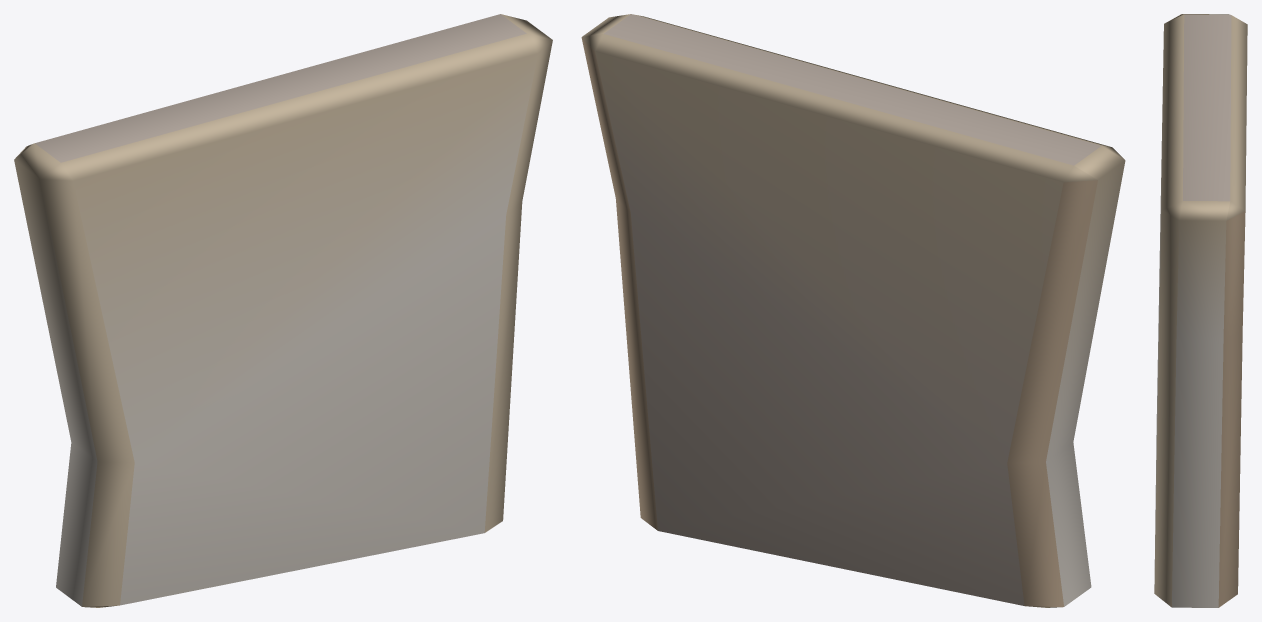
The model's file is body.glb.
3 renders of one model, left to right at view 1: azimuth 30°, elevation 25°; view 2: azimuth 150°, elevation 25°; view 3: azimuth 270°, elevation 25°, orthographic. The views are drawn at different scales.
Visible parts, largest first — view 1: body; view 2: body; view 3: body.
Boxes of the visible parts, <box> form: body: <box>14,14,552,607</box>; body: <box>581,14,1125,607</box>; body: <box>1154,14,1247,607</box>.
Bounding box in the file's own units: 0.5657 × 0.5075 × 0.1011.
